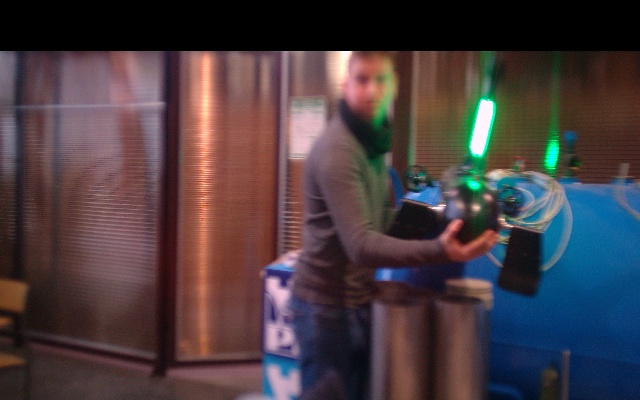green: (469, 99, 495, 161)
